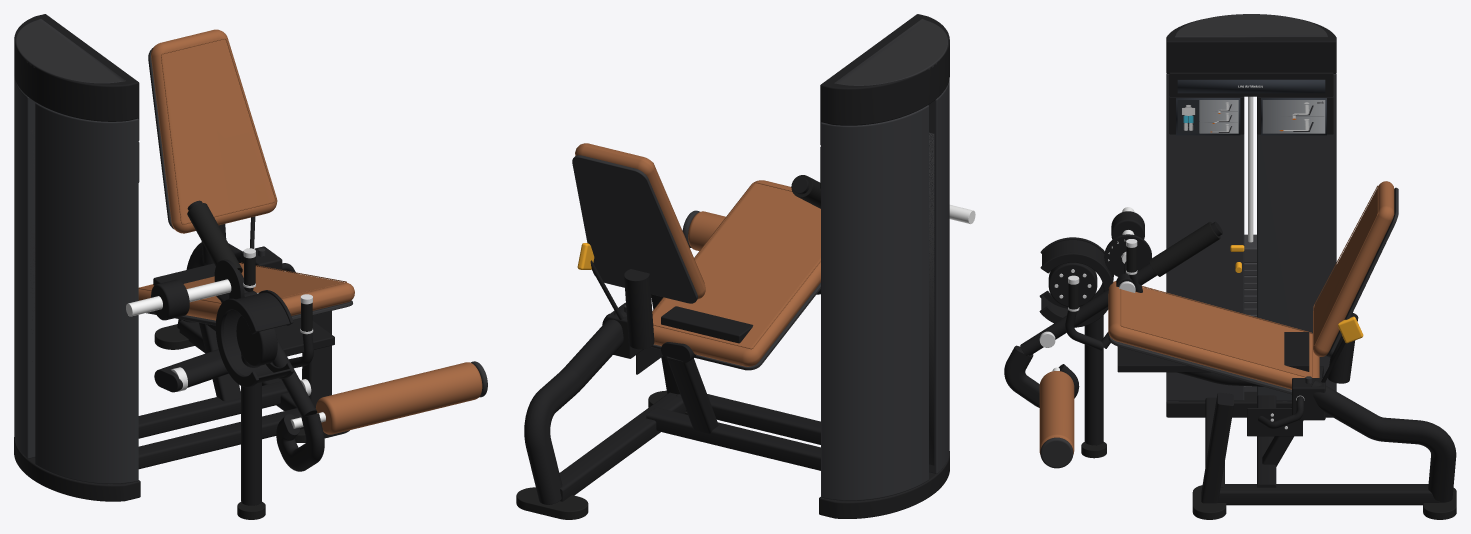
Rendered from precor-resolute-series-leg-extension_v018.glb.
The picture shows the model from 3 angles, left to right: view 1: azimuth 30°, elevation 25°; view 2: azimuth 150°, elevation 25°; view 3: azimuth 270°, elevation 25°; orthographic projection. The views are drawn at different scales.
Parts seen in each view (by area): view 1: precor-resolute-series-leg-extension_tower_shroud, precor-resolute-series-leg-extension_pad.001, precor-resolute-series-leg-extension_frame.004, precor-resolute-series-leg-extension_tower_frame, precor-resolute-series-leg-extension_pad, precor-resolute-series-leg-extension_frame.002, precor-resolute-series-leg-extension_frame, precor-resolute-series-leg-extension_tower_plastic, precor-resolute-series-leg-extension_frame.001, precor-resolute-series-leg-extension_rubber, precor-resolute-series-leg-extension_frame.003, precor-resolute-series-leg-extension_chrome (+4 smaller); view 2: precor-resolute-series-leg-extension_tower_shroud, precor-resolute-series-leg-extension_pad.001, precor-resolute-series-leg-extension_frame.004, precor-resolute-series-leg-extension_plastic.001, precor-resolute-series-leg-extension_tower_frame, precor-resolute-series-leg-extension_tower_plastic, precor-resolute-series-leg-extension_frame.002, precor-resolute-series-leg-extension_tower_plastic.001, precor-resolute-series-leg-extension_frame.003, precor-resolute-series-leg-extension_rubber.002, precor-resolute-series-leg-extension_pad, precor-resolute-series-leg-extension_seam (+1 smaller); view 3: precor-resolute-series-leg-extension_tower_shroud, precor-resolute-series-leg-extension_frame.004, precor-resolute-series-leg-extension_pad.001, precor-resolute-series-leg-extension_tower_frame, precor-resolute-series-leg-extension_frame.002, precor-resolute-series-leg-extension_tower_frame.001, precor-resolute-series-leg-extension_frame.001, precor-resolute-series-leg-extension_tower_panel, precor-resolute-series-leg-extension_tower_plastic, precor-resolute-series-leg-extension_frame, precor-resolute-series-leg-extension_pad, precor-resolute-series-leg-extension_frame.003 (+11 smaller).
Boxes of the visible parts, x1,y1,x2,y2 form: precor-resolute-series-leg-extension_tower_shroud: (14, 76, 138, 484); precor-resolute-series-leg-extension_pad.001: (138, 29, 354, 320); precor-resolute-series-leg-extension_frame.004: (138, 242, 331, 471); precor-resolute-series-leg-extension_tower_frame: (14, 14, 140, 501); precor-resolute-series-leg-extension_pad: (315, 362, 482, 434); precor-resolute-series-leg-extension_frame.002: (187, 200, 317, 505); precor-resolute-series-leg-extension_frame: (215, 290, 293, 387); precor-resolute-series-leg-extension_tower_plastic: (16, 19, 125, 83); precor-resolute-series-leg-extension_frame.001: (151, 246, 282, 366); precor-resolute-series-leg-extension_rubber: (187, 203, 312, 331); precor-resolute-series-leg-extension_frame.003: (153, 263, 334, 356); precor-resolute-series-leg-extension_chrome: (126, 279, 325, 428); precor-resolute-series-leg-extension_tower_shroud: (821, 79, 949, 500); precor-resolute-series-leg-extension_pad.001: (575, 143, 820, 366); precor-resolute-series-leg-extension_frame.004: (524, 289, 820, 504); precor-resolute-series-leg-extension_plastic.001: (572, 155, 820, 370); precor-resolute-series-leg-extension_tower_frame: (819, 14, 949, 518); precor-resolute-series-leg-extension_tower_plastic: (834, 19, 947, 85); precor-resolute-series-leg-extension_frame.002: (590, 177, 809, 349); precor-resolute-series-leg-extension_tower_plastic.001: (929, 132, 934, 465); precor-resolute-series-leg-extension_frame.003: (661, 306, 753, 343); precor-resolute-series-leg-extension_rubber.002: (516, 390, 687, 519); precor-resolute-series-leg-extension_pad: (688, 211, 725, 250); precor-resolute-series-leg-extension_seam: (652, 162, 820, 349); precor-resolute-series-leg-extension_tower_shroud: (1166, 73, 1336, 401); precor-resolute-series-leg-extension_frame.004: (1004, 261, 1456, 505); precor-resolute-series-leg-extension_pad.001: (1108, 181, 1394, 389); precor-resolute-series-leg-extension_tower_frame: (1166, 19, 1336, 417); precor-resolute-series-leg-extension_frame.002: (1020, 221, 1358, 445); precor-resolute-series-leg-extension_tower_frame.001: (1169, 72, 1333, 134); precor-resolute-series-leg-extension_frame.001: (1048, 211, 1325, 420); precor-resolute-series-leg-extension_tower_panel: (1176, 79, 1326, 135); precor-resolute-series-leg-extension_tower_plastic: (1175, 14, 1327, 37); precor-resolute-series-leg-extension_frame: (1039, 237, 1113, 327); precor-resolute-series-leg-extension_pad: (1039, 371, 1074, 454); precor-resolute-series-leg-extension_frame.003: (1116, 273, 1309, 372).
Size of the model in its own units: 1.27 by 1.5 by 1.61.
Materials: 19 (2 with a texture image).
